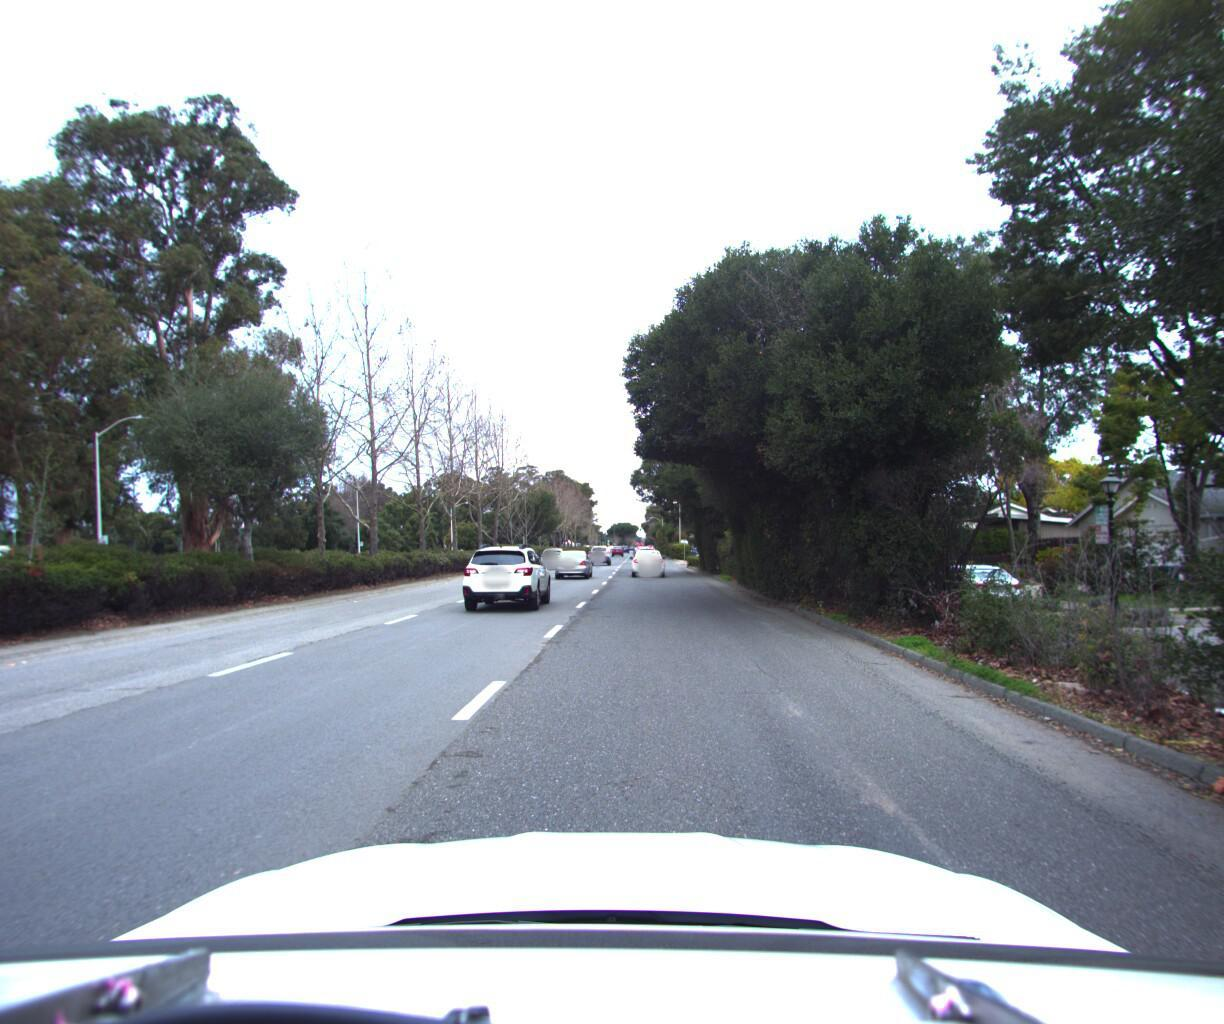car: (455, 536, 559, 611), (917, 558, 1025, 616), (0, 542, 30, 627), (551, 545, 595, 576), (629, 544, 663, 575), (539, 543, 567, 566), (586, 538, 609, 561)
